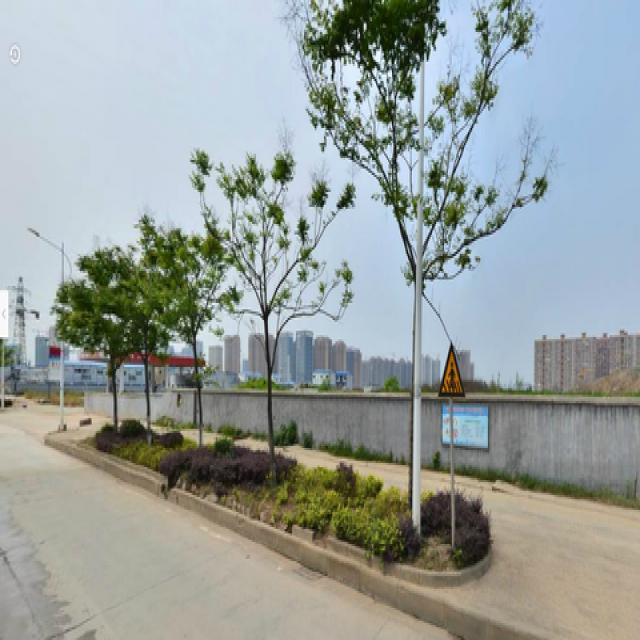koel: (331, 21, 449, 493), (210, 160, 326, 489), (164, 235, 211, 448), (72, 260, 119, 433), (117, 248, 156, 435)
